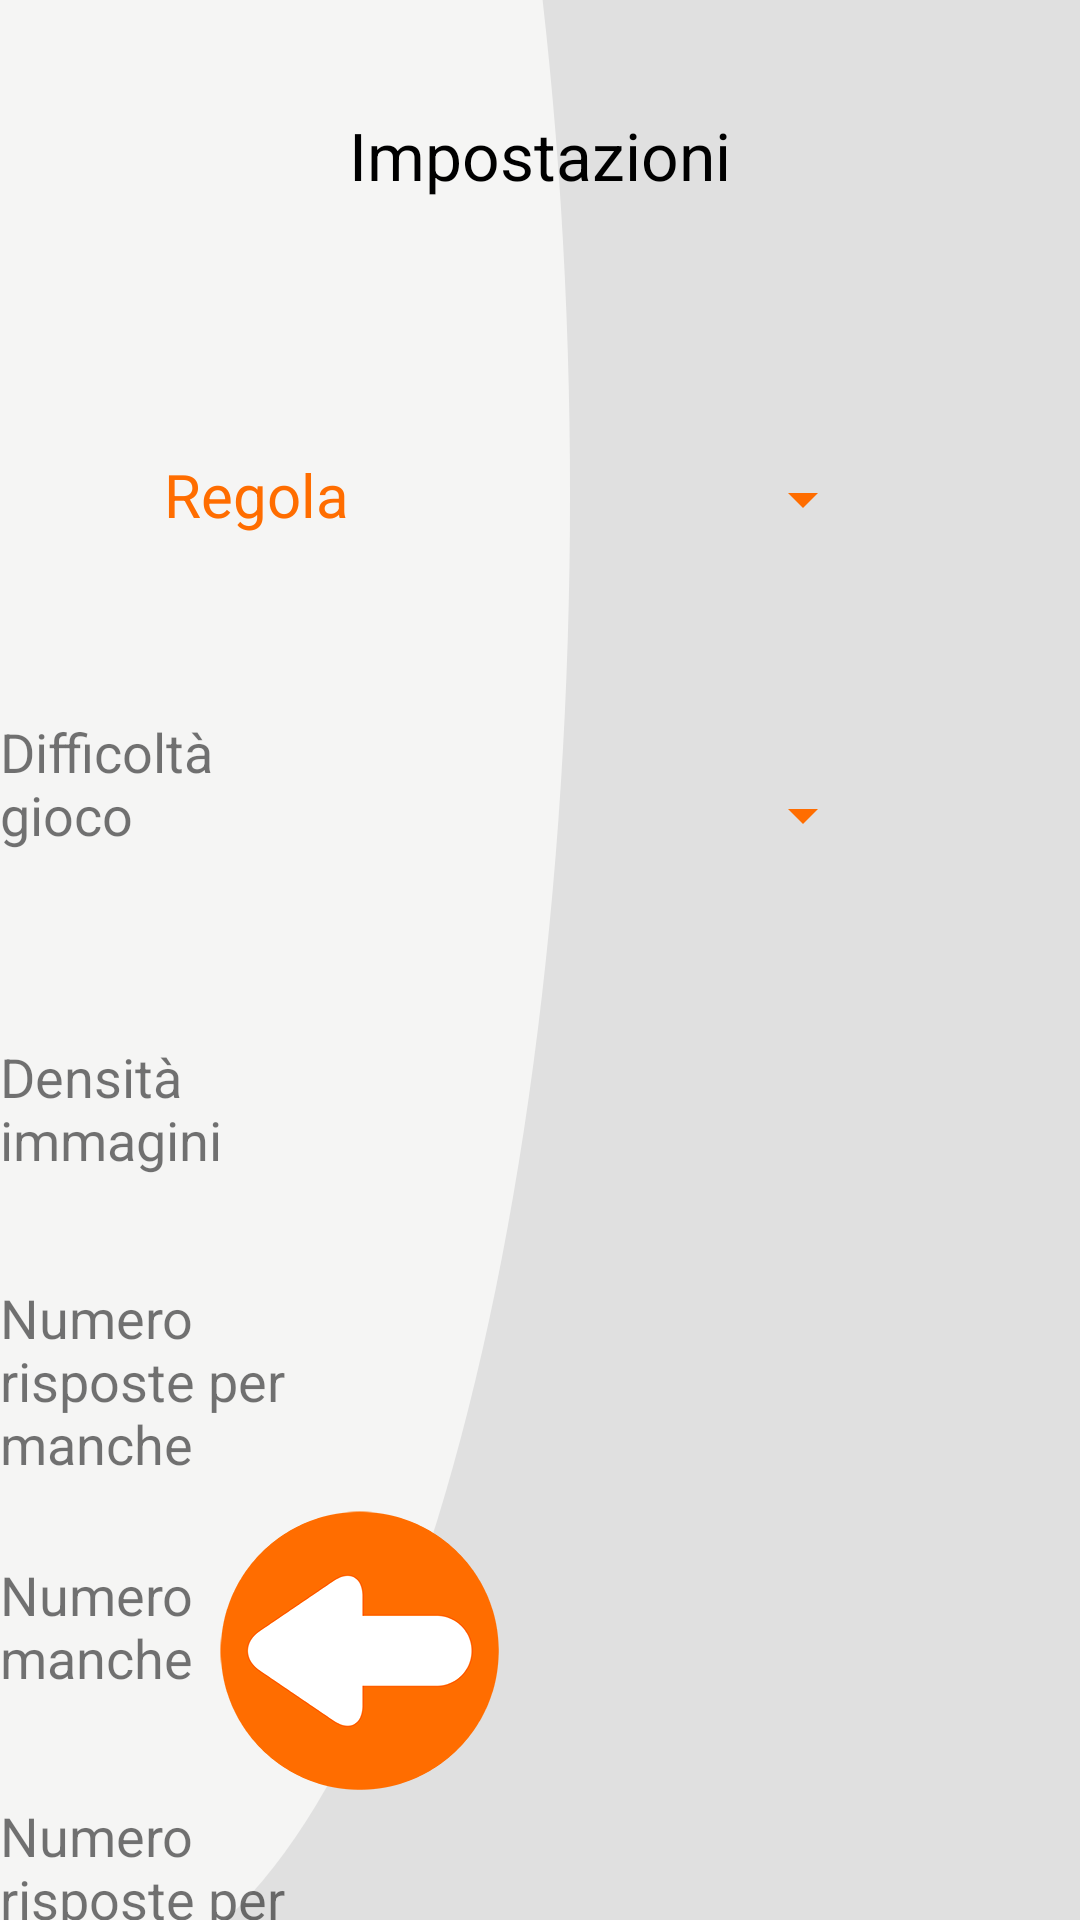

Point at icon controls on the screen. Image size 1080 x 1920, points as (x,y).
tasto indietro: (359,1650)
